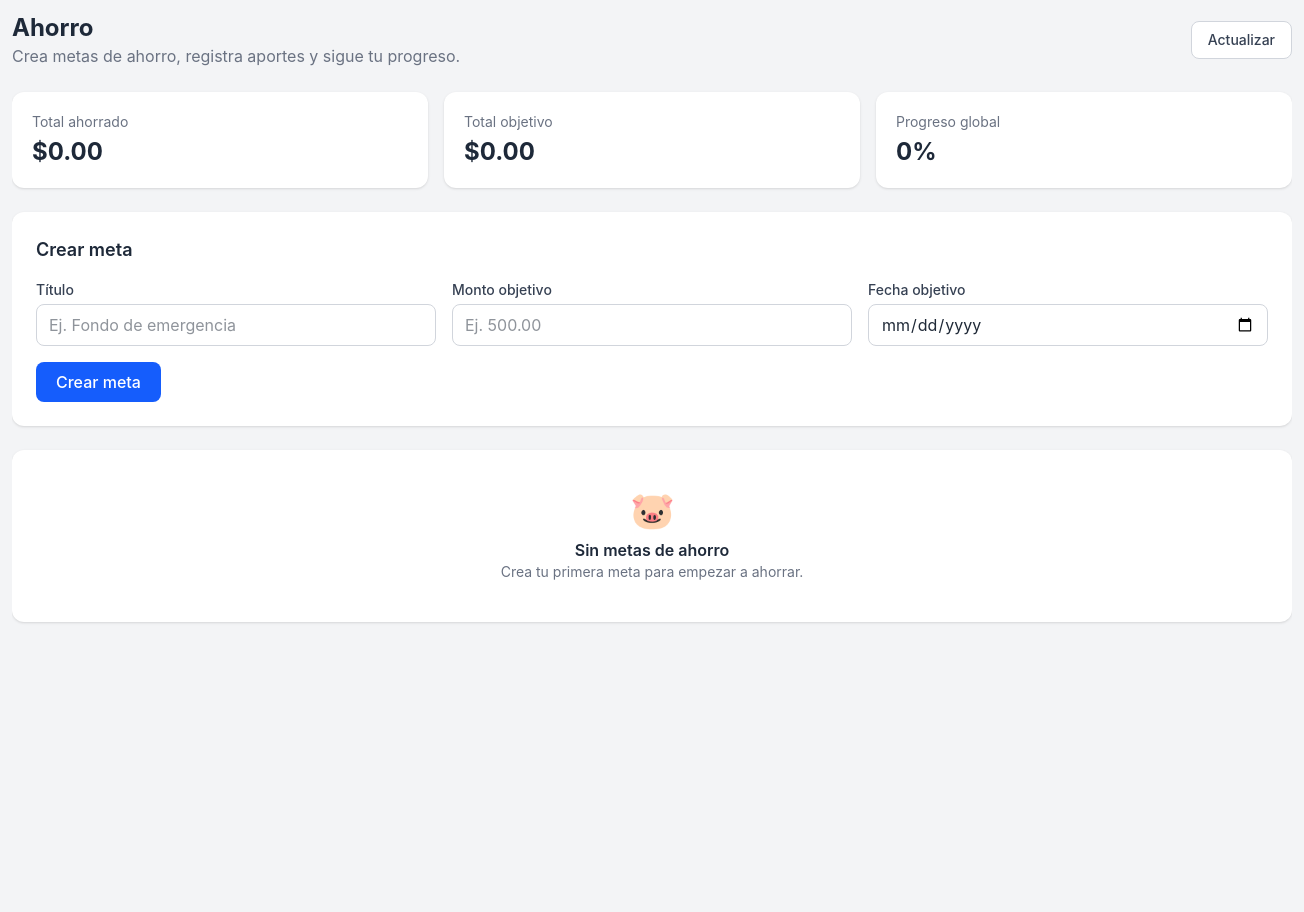
Scenario: Ahorro › crea una meta nueva y muestra el mensaje de éxito
The image size is (1304, 912).
Expected: the text "Sin metas de ahorro" is shown, [575,540,729,560]
In the field labelled "Título": (236,325) [36,304,436,346], type "Vacaciones"
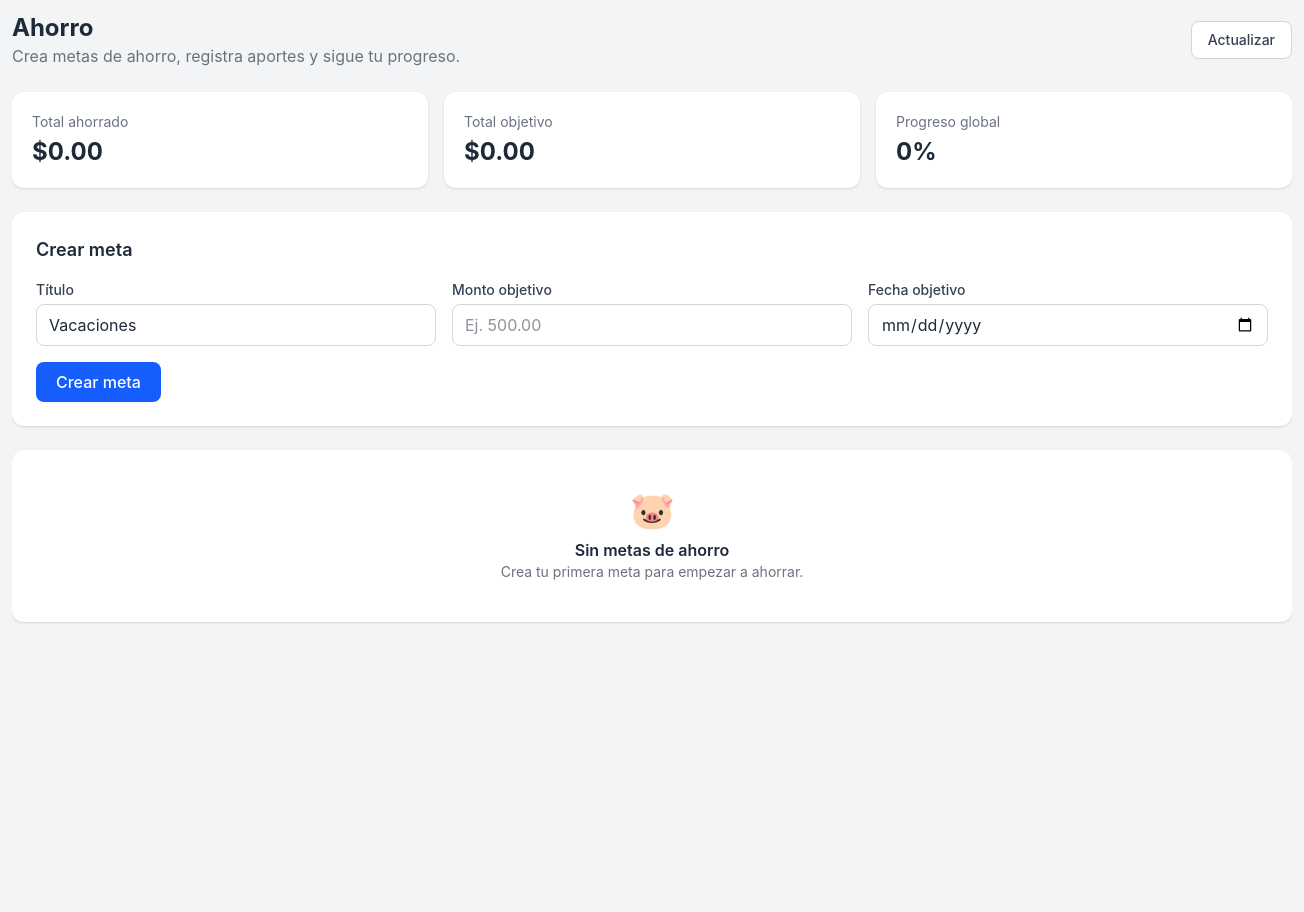
In the number field labelled "Monto objetivo": (652,325) [452,304,852,346], type "1000"
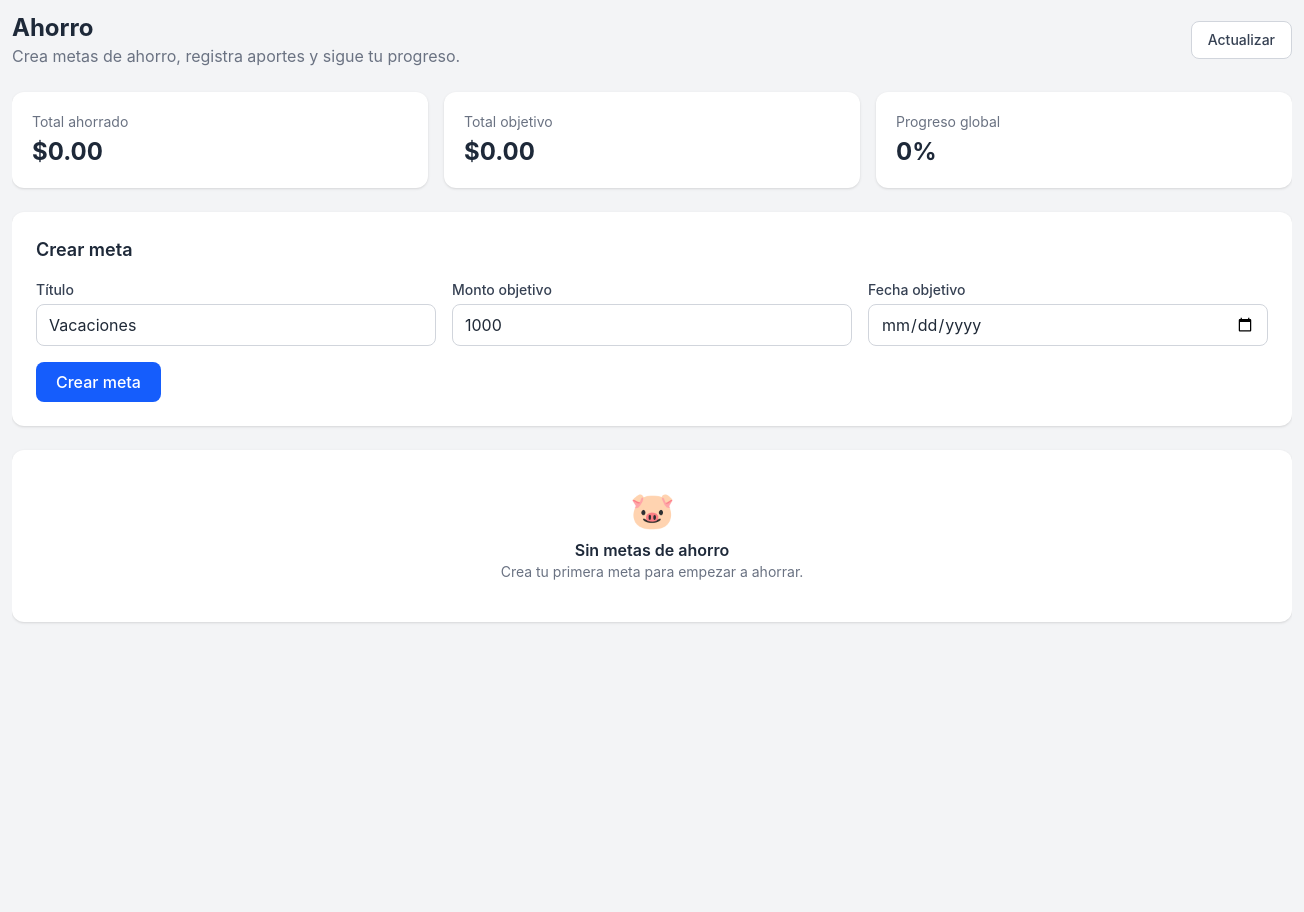
In the date field labelled "Fecha objetivo": (1068,325) [868,304,1268,346], type "2027-12-01"
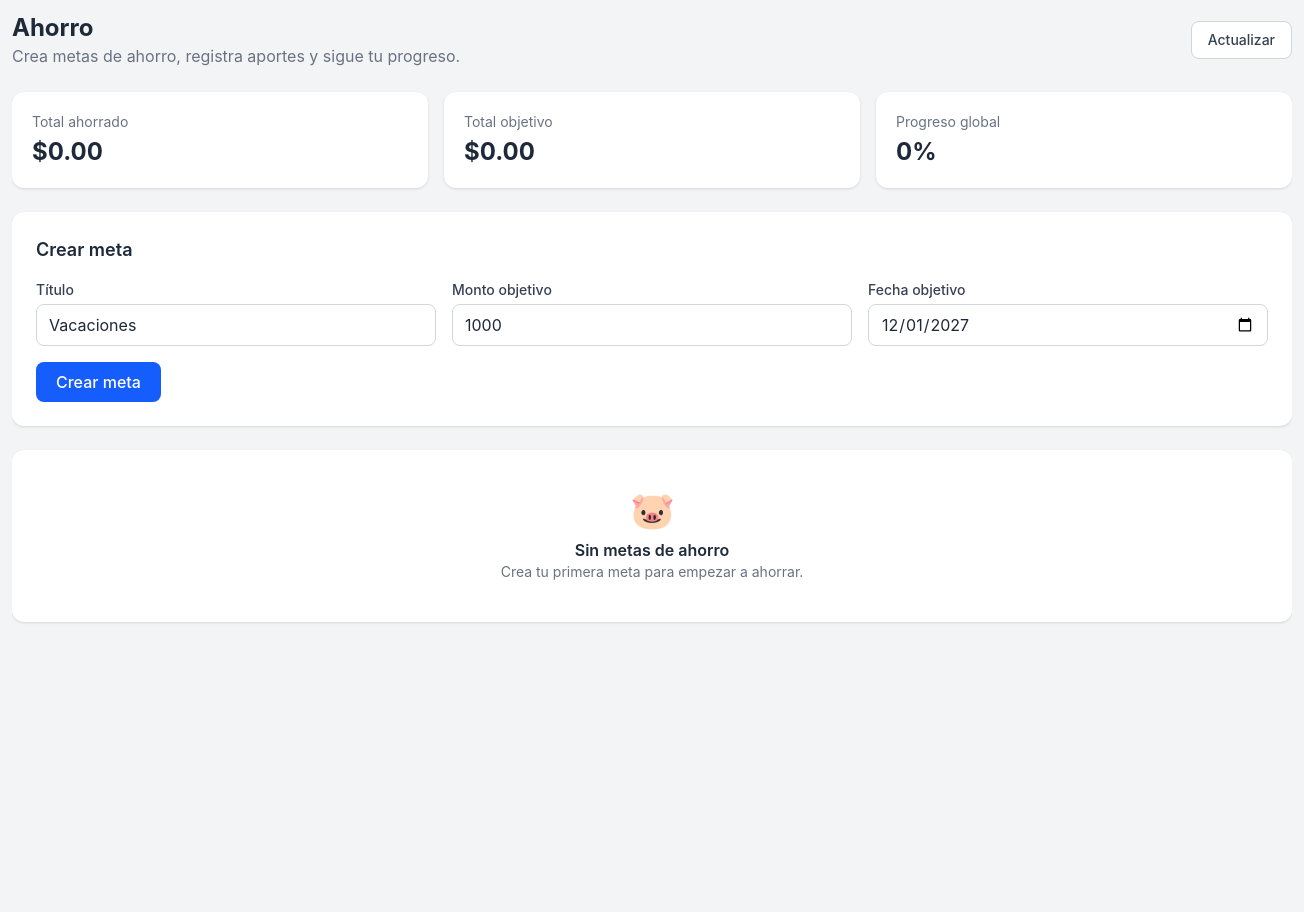
Click the button "Crear meta": (98,382) [36,362,161,402]
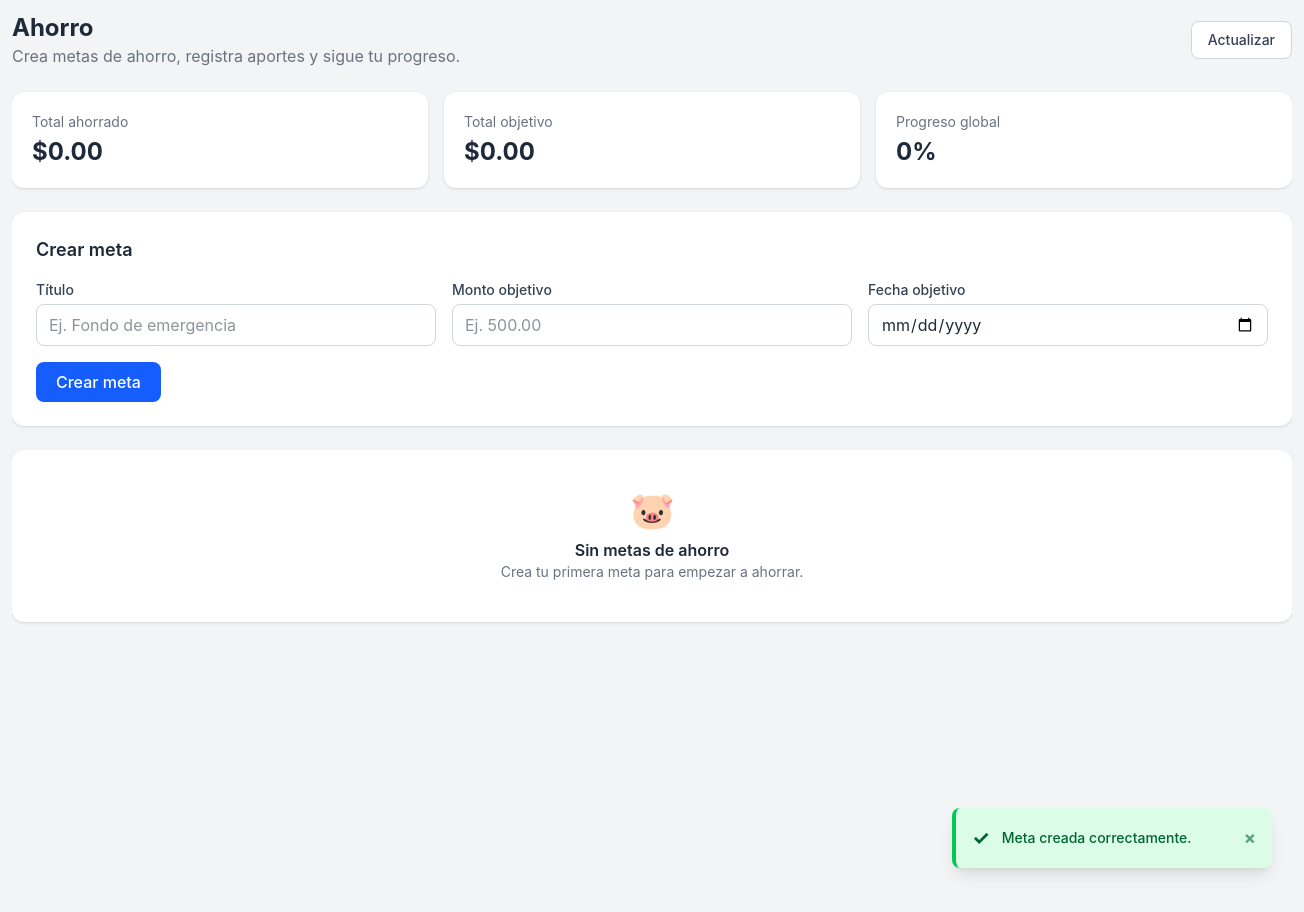
Result: the text "Meta creada correctamente." is shown at [1002,829,1192,846]
